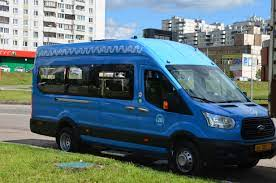van: (28, 37, 276, 173)
